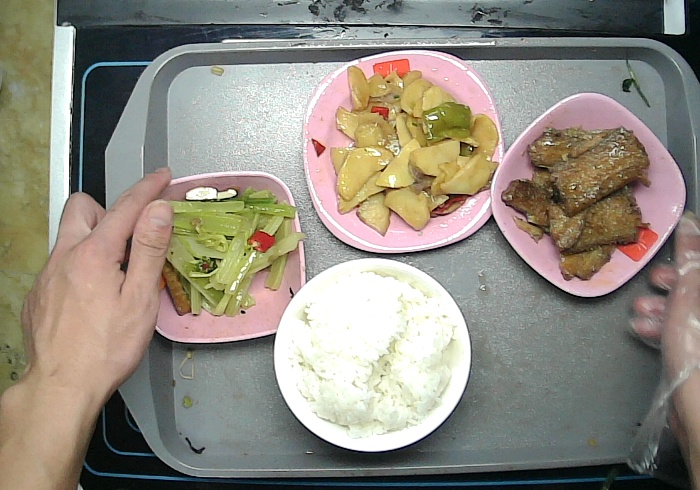SHKJ-Fan_Wan: (271, 255, 475, 455)
SHKJ-Fen_Se_Cai_Die: (486, 90, 689, 300)
SHKJ-Fen_Se_Si_Fang_Cai_Die: (298, 47, 508, 254)
SHKJ-Fen_Se_Xiao_Fang_Die: (143, 167, 308, 345)
